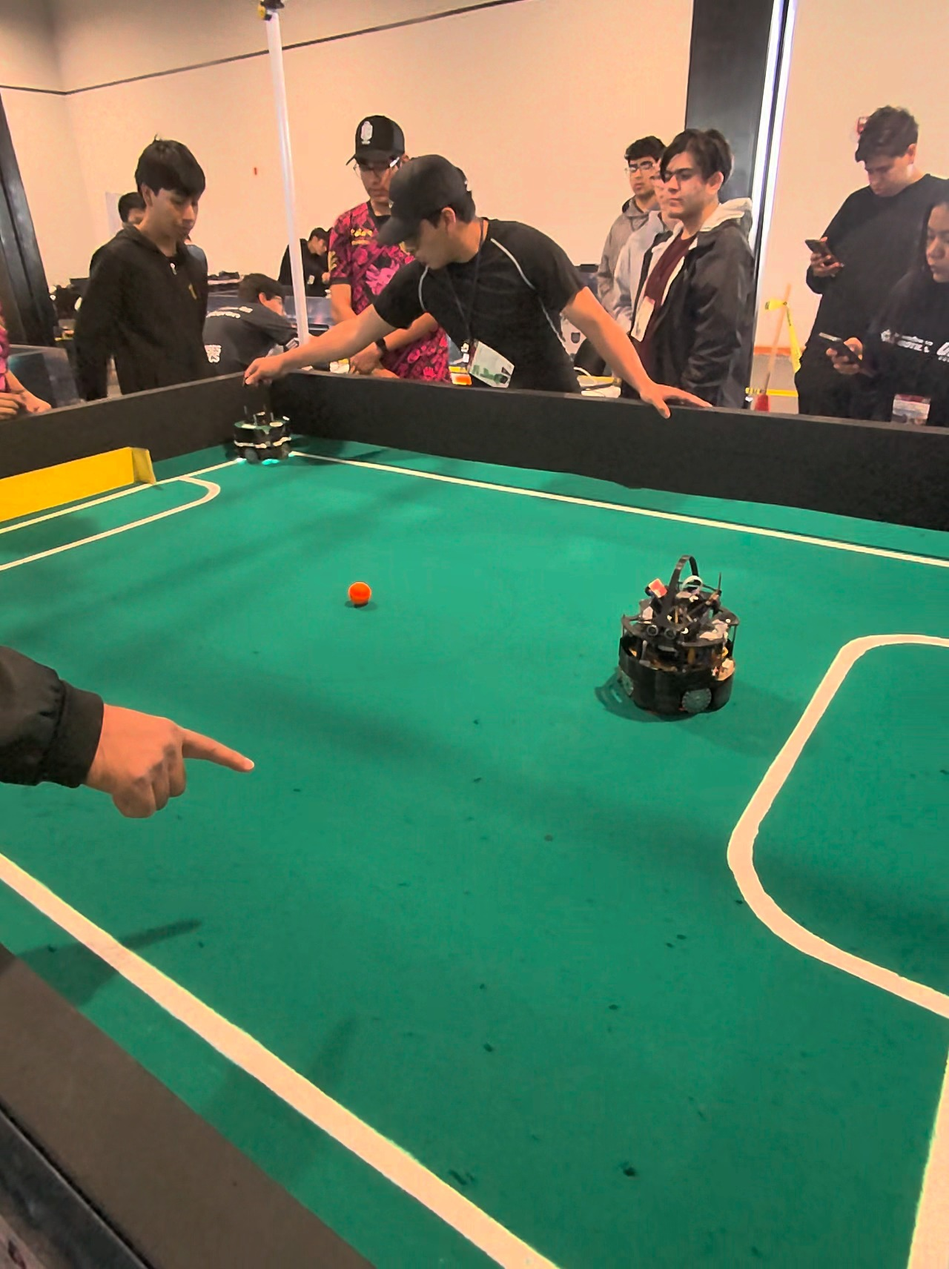Robot: (607, 556, 741, 724), (222, 372, 296, 470)
pelota: (347, 582, 373, 609)
